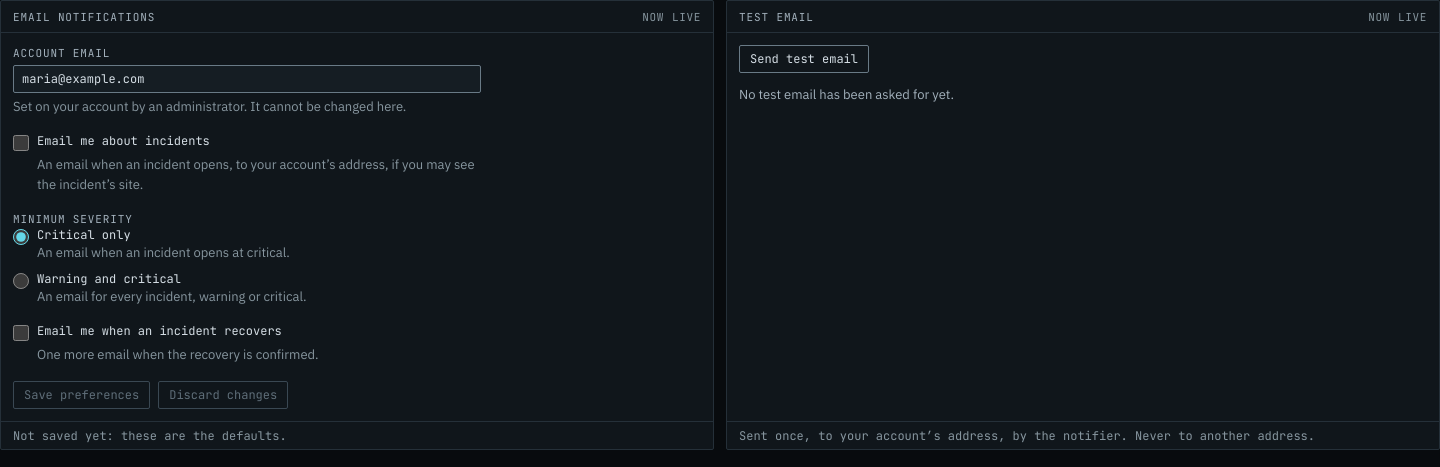
Test case: saving the preferences › offers Save only once something changed, and Discard puts it back
Expected: the button "Save preferences" is disabled, [13,381,150,409]
Expected: the button "Discard changes" is disabled, [158,381,288,409]
Click the radio button labelled "Warning and critical": (21, 281) [13,273,29,289]
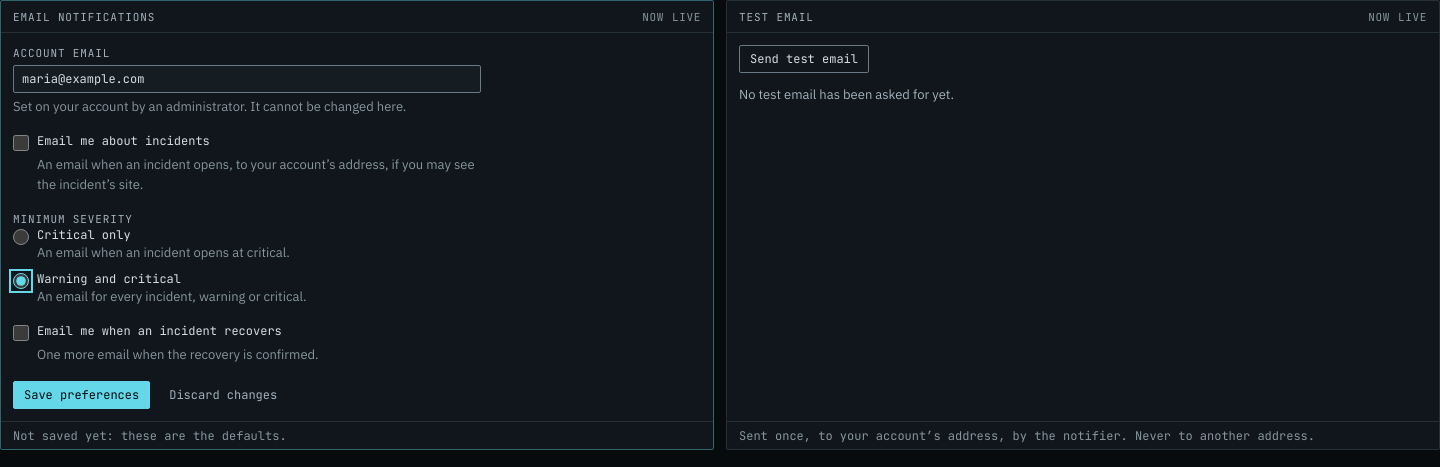
Result: the button "Save preferences" is enabled at [13,381,150,409]
Click the button "Discard changes": (223, 395) [158,381,288,409]
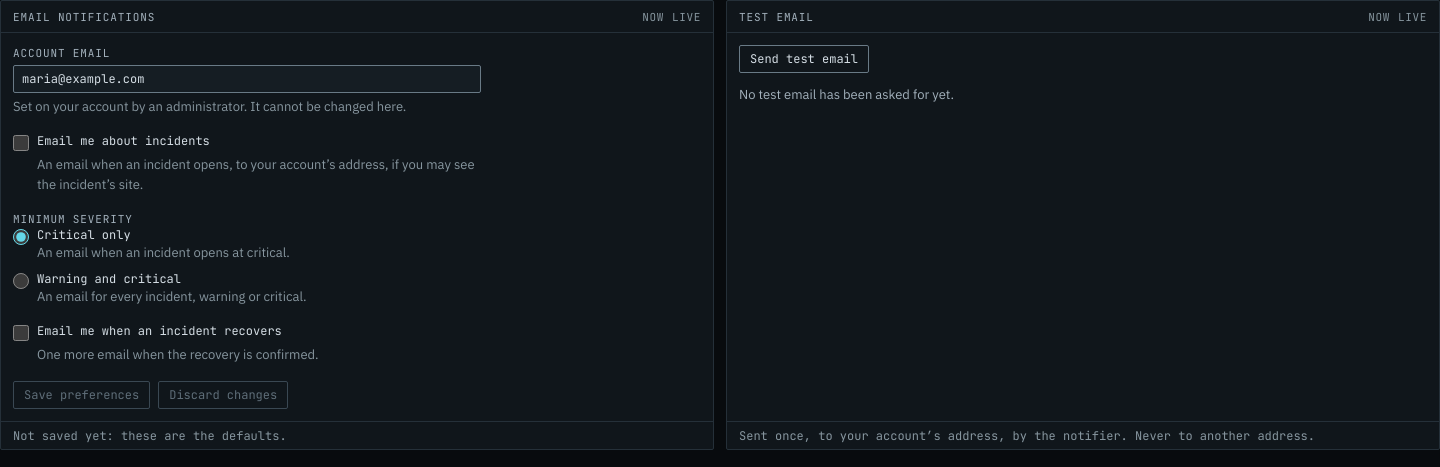
Result: the radio button labelled "Critical only" is checked at [13,229,29,245]
Result: the button "Save preferences" is disabled at [13,381,150,409]
